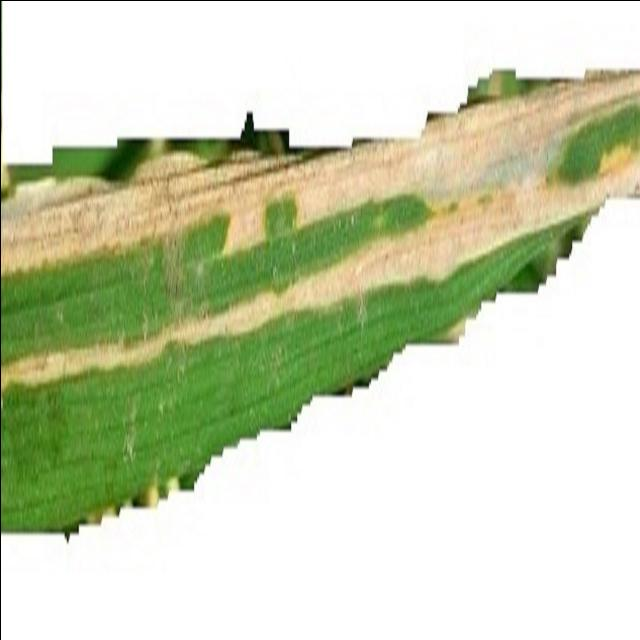Unhealthy: (0, 70, 640, 402)
